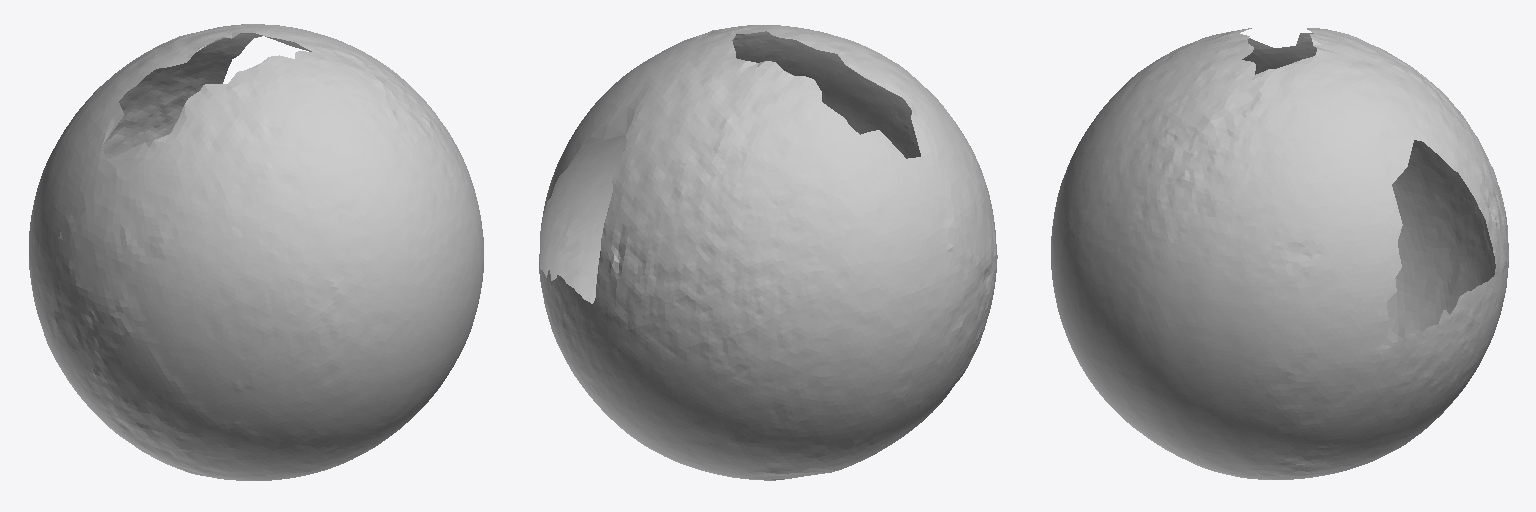
File: Gridtest_1_3_0.000001.obj
3 views of the same model, side by side, from view 1: azimuth 30°, elevation 25°; view 2: azimuth 150°, elevation 25°; view 3: azimuth 270°, elevation 25° (orthographic).
Bounding box in the file's own units: 299 × 304 × 300.